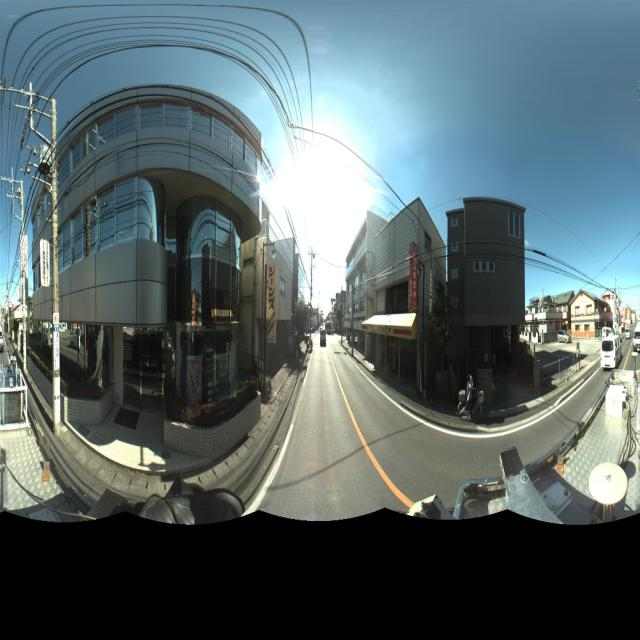b_1: (30, 89, 268, 421), (445, 192, 531, 372), (375, 193, 448, 378), (243, 238, 308, 364), (339, 204, 387, 362), (572, 286, 602, 356), (528, 303, 562, 347)
